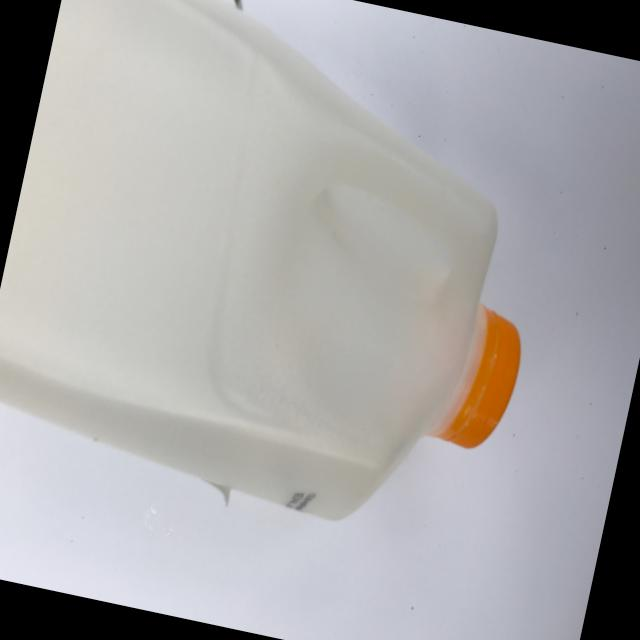Plastic: (0, 0, 599, 569)
